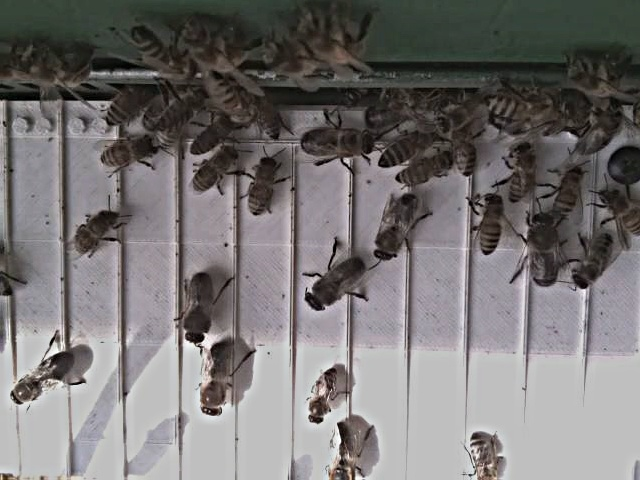Drone: (6, 348, 76, 410), (301, 255, 370, 316), (370, 189, 423, 266), (296, 124, 378, 166), (196, 338, 235, 423), (522, 210, 561, 293), (180, 269, 214, 348)
Worker: (68, 207, 118, 262), (97, 136, 162, 174), (242, 156, 278, 222), (474, 186, 505, 262), (549, 165, 588, 225), (190, 149, 239, 196), (303, 364, 338, 428), (393, 154, 453, 190), (377, 129, 427, 172), (447, 120, 482, 181), (596, 192, 640, 239), (505, 140, 535, 207)
